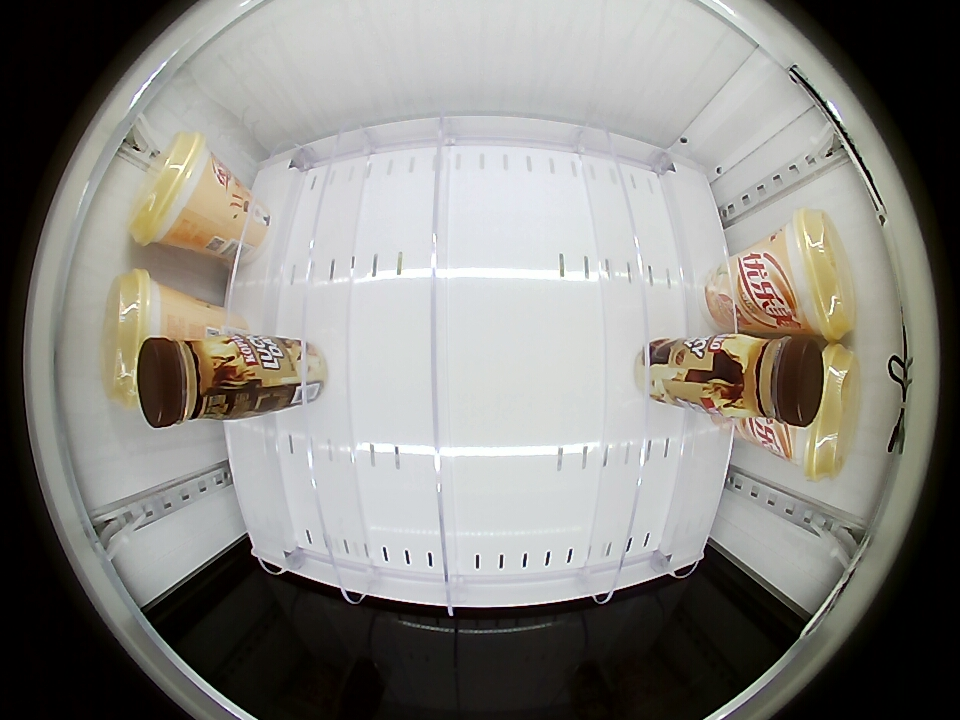lujikafei: (138, 331, 242, 428), (717, 335, 824, 426)
youlemei: (102, 268, 175, 416), (130, 132, 221, 249), (776, 208, 856, 340), (789, 343, 860, 481)
